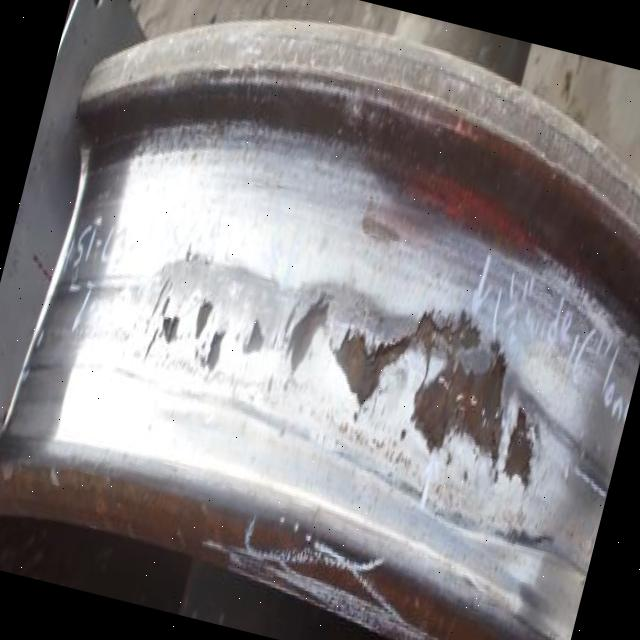Peeling: (117, 214, 572, 526)
